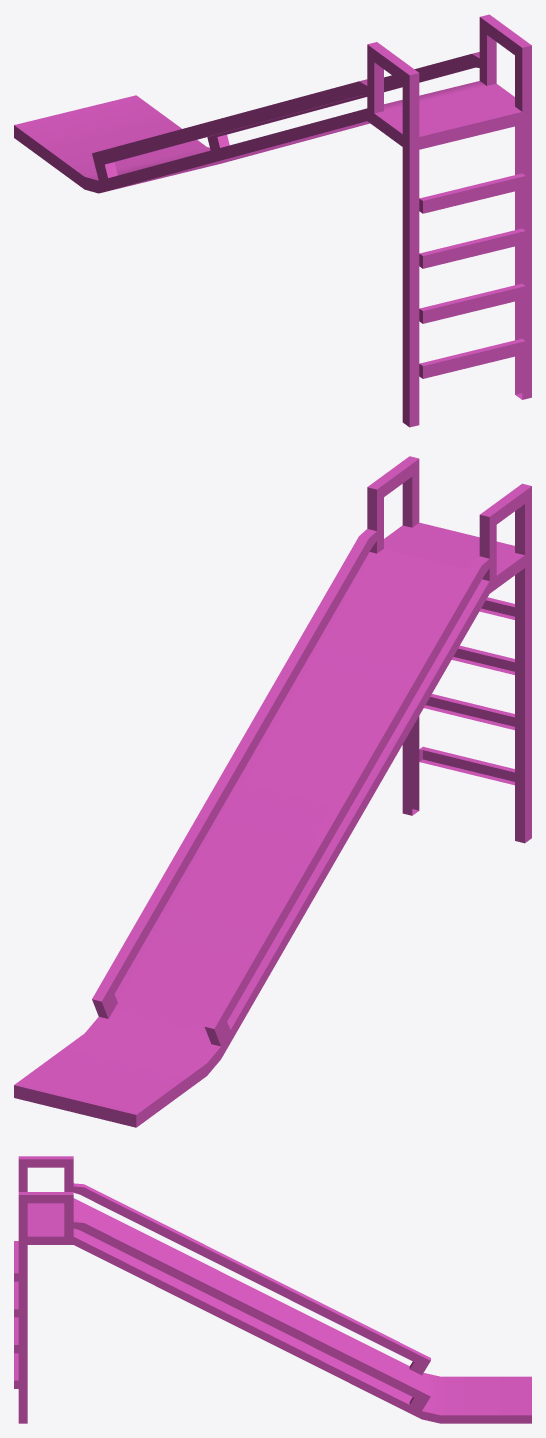
File: slide_002.obj
3 renders of one model, top to bottom at view 1: azimuth 30°, elevation 25°; view 2: azimuth 150°, elevation 25°; view 3: azimuth 270°, elevation 25°, orthographic. The views are drawn at different scales.
Visible parts, largest first — view 1: Box001; view 2: Box001; view 3: Box001.
Part boxes in pixels (x1,y1,x2,y2): Box001: (14,14,531,427); Box001: (14,456,531,1127); Box001: (14,1156,531,1423).
Size of the model in its own units: 10 by 27.5 by 56.5.
